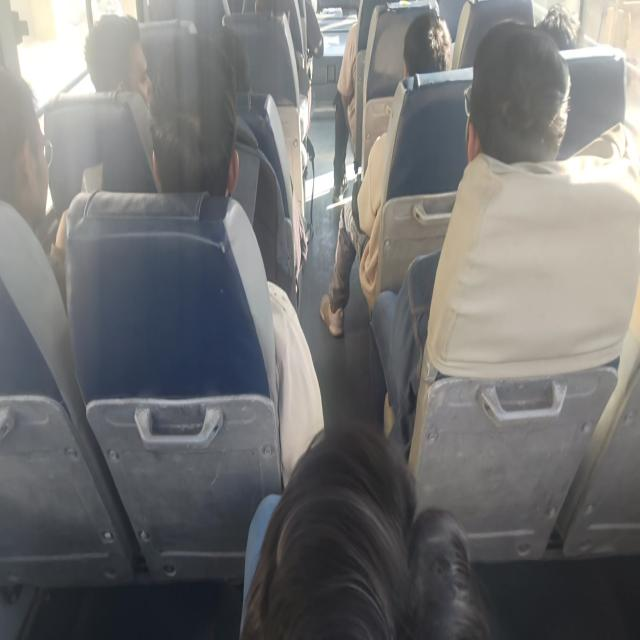person: (369, 17, 639, 461), (148, 32, 324, 488), (239, 421, 491, 638), (319, 11, 452, 337), (0, 67, 70, 310), (83, 12, 152, 106), (332, 21, 359, 203), (536, 4, 579, 51)
